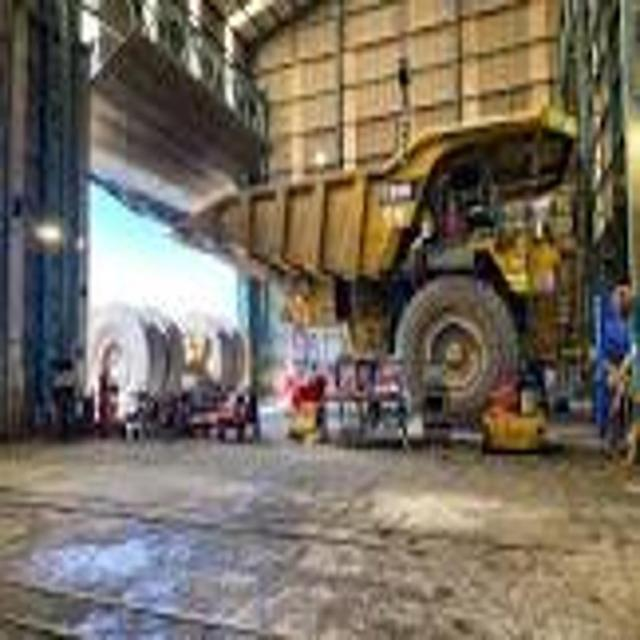dump_truck: (164, 109, 580, 422)
